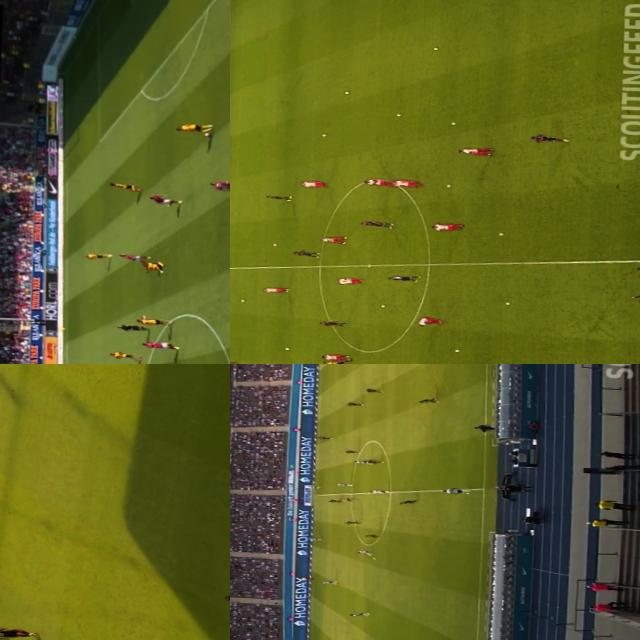ball: (446, 120, 458, 126), (340, 90, 350, 95), (394, 111, 401, 118), (199, 132, 211, 136), (452, 348, 462, 352), (281, 346, 290, 350), (319, 133, 326, 138), (369, 556, 377, 560), (377, 303, 387, 306), (502, 301, 510, 304), (497, 232, 503, 236), (270, 242, 278, 245), (238, 300, 246, 302), (446, 184, 452, 186), (432, 48, 438, 50)
player: (136, 339, 182, 351), (172, 122, 215, 134), (0, 625, 32, 640), (103, 182, 141, 192), (114, 252, 152, 262), (145, 196, 181, 206), (528, 134, 572, 142), (429, 220, 463, 230), (108, 349, 138, 360), (319, 318, 347, 328), (388, 273, 422, 281), (458, 146, 492, 154), (416, 316, 442, 326), (333, 277, 365, 285), (132, 318, 166, 325), (359, 220, 393, 227), (84, 251, 110, 260), (362, 179, 394, 186), (318, 235, 350, 242), (300, 180, 328, 188), (142, 262, 164, 272), (203, 182, 230, 190), (392, 180, 422, 187), (291, 250, 319, 257), (441, 488, 471, 494), (417, 396, 439, 404), (347, 610, 369, 618), (342, 518, 362, 526), (266, 195, 296, 200), (398, 498, 418, 505), (368, 489, 392, 494), (344, 401, 364, 407), (352, 459, 374, 464), (332, 483, 354, 488), (356, 550, 374, 556), (364, 459, 384, 464), (343, 448, 359, 454), (306, 536, 322, 542), (315, 435, 333, 440), (318, 580, 339, 584), (364, 388, 384, 392), (326, 498, 342, 503), (362, 534, 380, 538), (230, 359, 240, 364)
